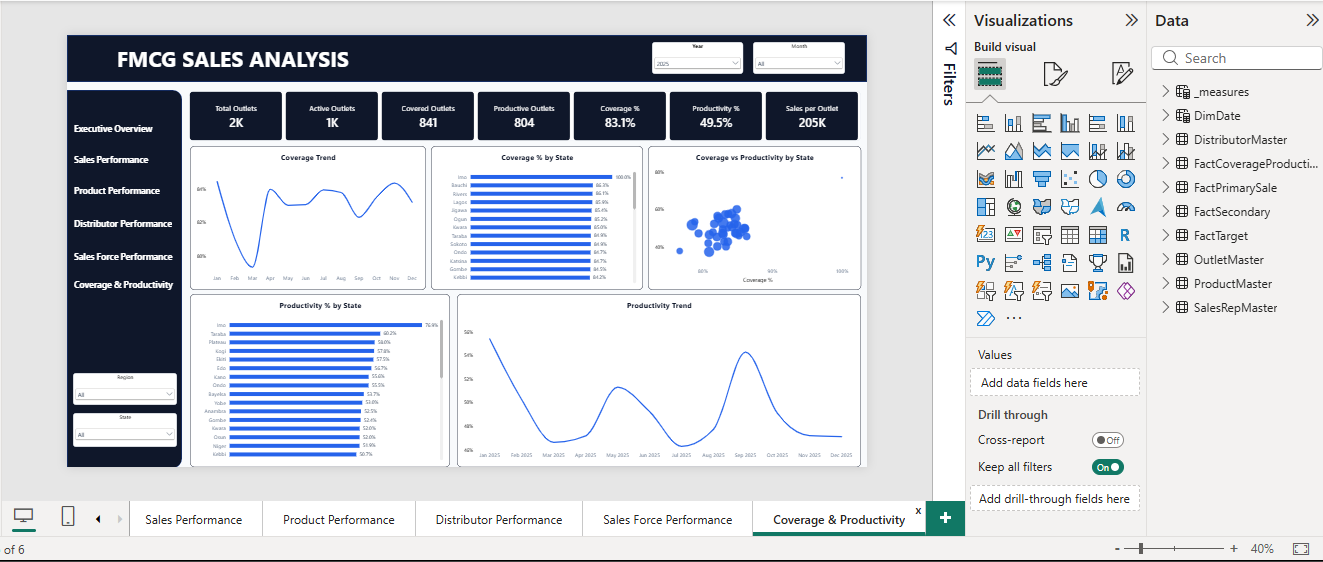

The dashboard page shown, as its layout file describes it:
{"tool":"powerbi","page":{"name":"Coverage & Productivity","canvas":[2000,1082],"ordinal":5},"visuals":[{"type":"shape","box":[0,0,2000,117.5],"z":0},{"type":"textbox","box":[125,22.5,632.5,75],"z":1000},{"type":"shape","box":[0,137.5,287.5,945],"z":2000},{"type":"textbox","box":[17.5,297.5,237.5,32.5],"z":3000},{"type":"textbox","box":[17.5,220,215,45],"z":4000},{"type":"textbox","box":[17.5,375,255,35],"z":5000},{"type":"textbox","box":[17.5,457.5,255,37.5],"z":6000},{"type":"textbox","box":[17.5,540,255,37.5],"z":7000},{"type":"textbox","box":[17.5,610,255,37.5],"z":8000},{"type":"slicer","title":"Year","fields":{"Values":["DimDate.Year"]},"box":[1462.5,17.5,227.5,80],"z":40300},{"type":"slicer","title":"Month","fields":{"Values":["DimDate.Month"]},"box":[1715,17.5,230,80],"z":40400},{"type":"slicer","title":"Region","fields":{"Values":["DistributorMaster.Region"]},"box":[15,845,260,80],"z":40500},{"type":"slicer","title":"State","fields":{"Values":["DistributorMaster.State"]},"box":[15,945,260,85],"z":40600},{"type":"cardVisual","fields":{"Data":["_measures.Total Outlets","_measures.Active Outlets","_measures.Covered Outlets","_measures.Productive Outlets","_measures.Coverage %","_measures.Productivity %","_measures.Sales per Outlet"]},"box":[305,140,1680,125],"z":40700},{"type":"lineChart","title":"Coverage Trend","fields":{"Category":["DimDate.Month"],"Y":["_measures.Coverage %"]},"box":[306.7,276.7,590,360],"z":40800},{"type":"lineChart","title":"Productivity Trend","fields":{"Category":["DimDate.Month Year"],"Y":["_measures.Productivity %"]},"box":[975,647.5,1010,432.5],"z":40900},{"type":"scatterChart","title":"Coverage vs Productivity by State","fields":{"Category":["DistributorMaster.State"],"Size":["_measures.Secondary Sales"],"X":["_measures.Coverage %"],"Y":["_measures.Productivity %"]},"box":[1452.5,277.5,532.5,360],"z":41000},{"type":"clusteredBarChart","title":"Coverage % by State","fields":{"Category":["DistributorMaster.State"],"Y":["_measures.Coverage %"]},"box":[910,277.5,530,360],"z":41100},{"type":"clusteredBarChart","title":"Productivity % by State","fields":{"Category":["DistributorMaster.State"],"Y":["_measures.Productivity %"]},"box":[307.5,647.5,650,432.5],"z":41200}]}

Visuals, with their boxes on the page's 2000x1082 design canvas (x1, y1, x2, y2). These are canvas units, not pixel positions in the 1323x562 screenshot, which may show the page scaled, cropped or inside an application window:
shape: [0, 0, 2000, 118]
textbox: [125, 22, 758, 98]
shape: [0, 138, 288, 1082]
textbox: [18, 298, 255, 330]
textbox: [18, 220, 232, 265]
textbox: [18, 375, 272, 410]
textbox: [18, 458, 272, 495]
textbox: [18, 540, 272, 578]
textbox: [18, 610, 272, 648]
"Year" slicer: [1462, 18, 1690, 98]
"Month" slicer: [1715, 18, 1945, 98]
"Region" slicer: [15, 845, 275, 925]
"State" slicer: [15, 945, 275, 1030]
cardVisual - _measures.Total Outlets x _measures.Active Outlets: [305, 140, 1985, 265]
"Coverage Trend" lineChart: [307, 277, 897, 637]
"Productivity Trend" lineChart: [975, 648, 1985, 1080]
"Coverage vs Productivity by State" scatterChart: [1452, 278, 1985, 638]
"Coverage % by State" clusteredBarChart: [910, 278, 1440, 638]
"Productivity % by State" clusteredBarChart: [308, 648, 958, 1080]
